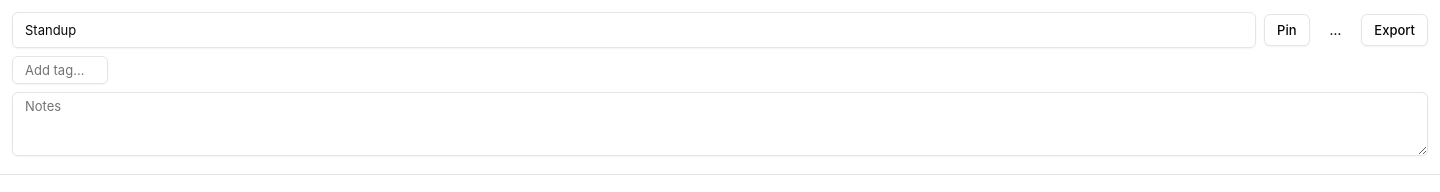
Test case: SessionHeader › the … menu closes on Escape and on an outside click
The width and height of the screenshot is (1440, 192).
Click the button with test id "session-header-menu" at coordinates (1335, 30), box [1318, 14, 1353, 46]
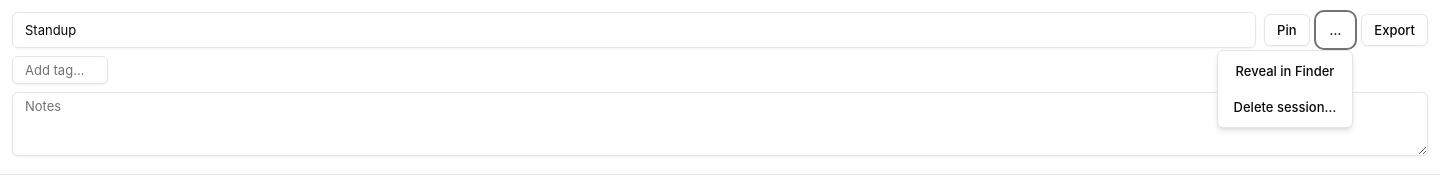
Expected: the button with test id "session-header-reveal" is shown, [1222, 55, 1348, 87]
Press Escape
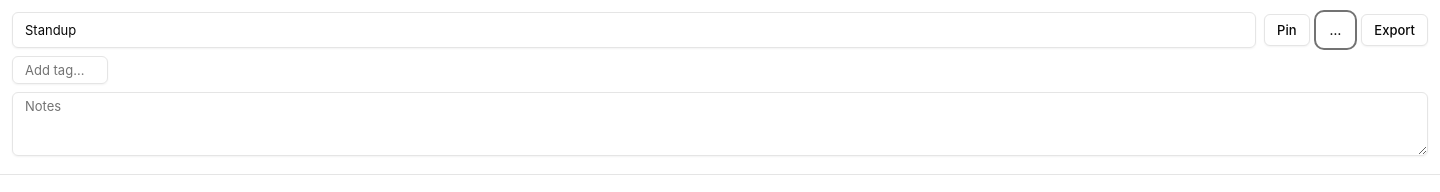
Expected: the button with test id "session-header-reveal" is gone
Click the button with test id "session-header-menu" at coordinates (1335, 30), box [1318, 14, 1353, 46]
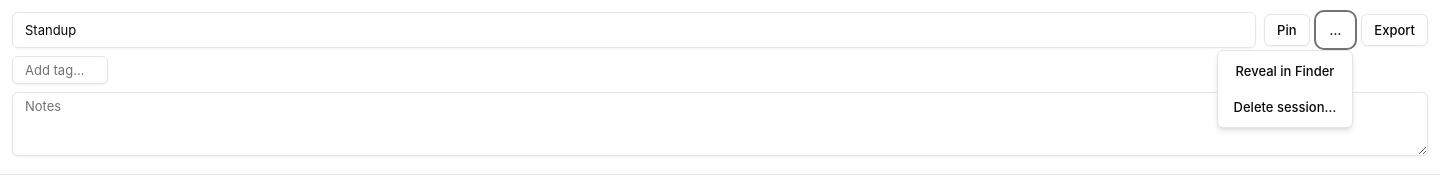
Expected: the button with test id "session-header-reveal" is shown, [1222, 55, 1348, 87]
Click the element showing "Pin … Reveal in Finder Delete session… Export" at coordinates (720, 87), box [0, 0, 1439, 174]
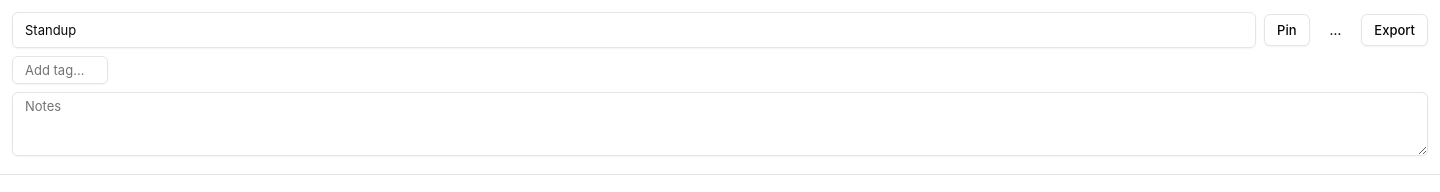
Expected: the button with test id "session-header-reveal" is gone
